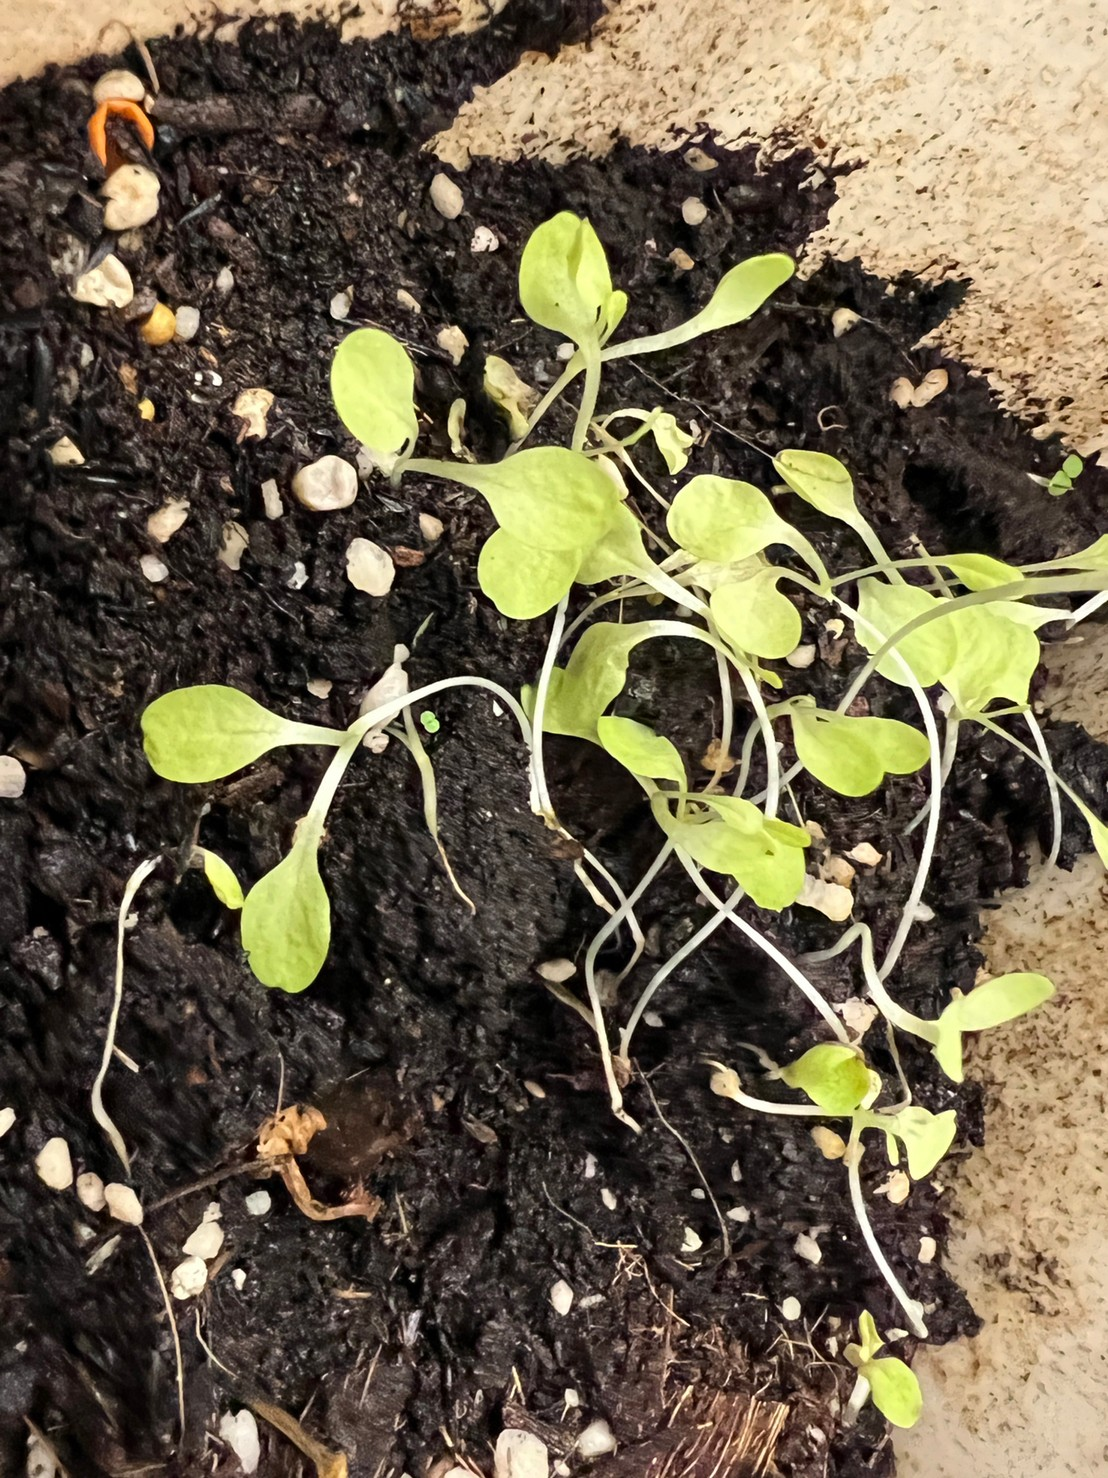week2: (94, 680, 436, 804), (403, 434, 690, 555), (571, 237, 836, 367), (241, 731, 341, 1006), (754, 690, 979, 809), (298, 312, 440, 491), (652, 466, 852, 574)
